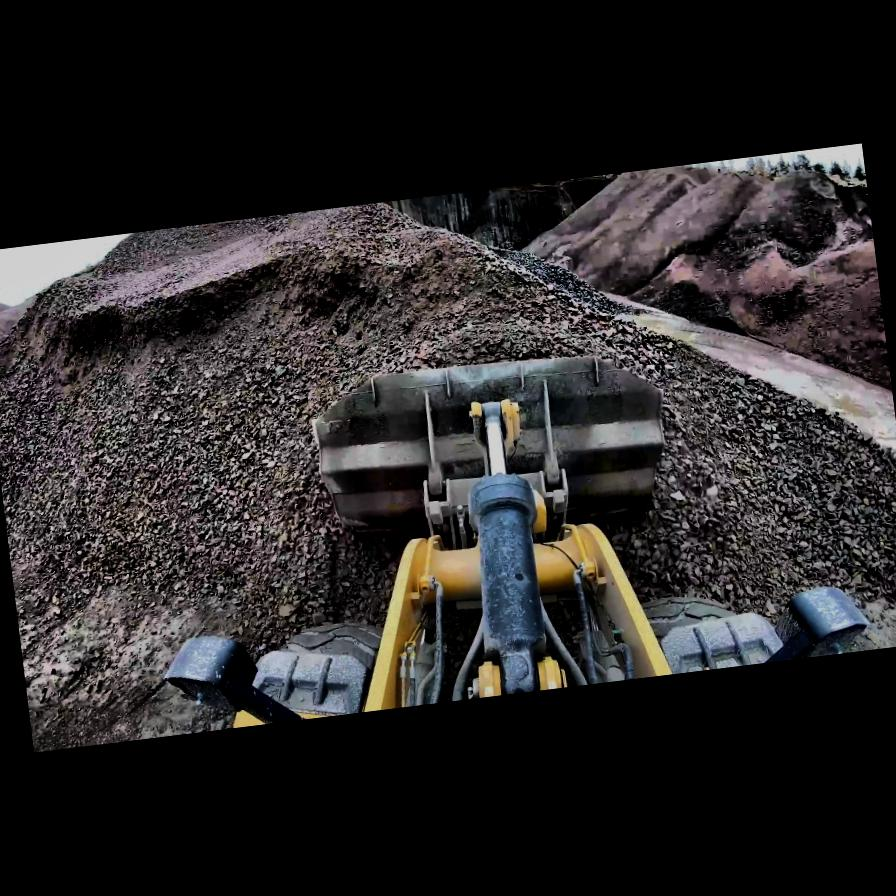anchor: (468, 394, 530, 474)
pile of gravel: (0, 143, 896, 726), (503, 144, 892, 440), (520, 157, 766, 308)
